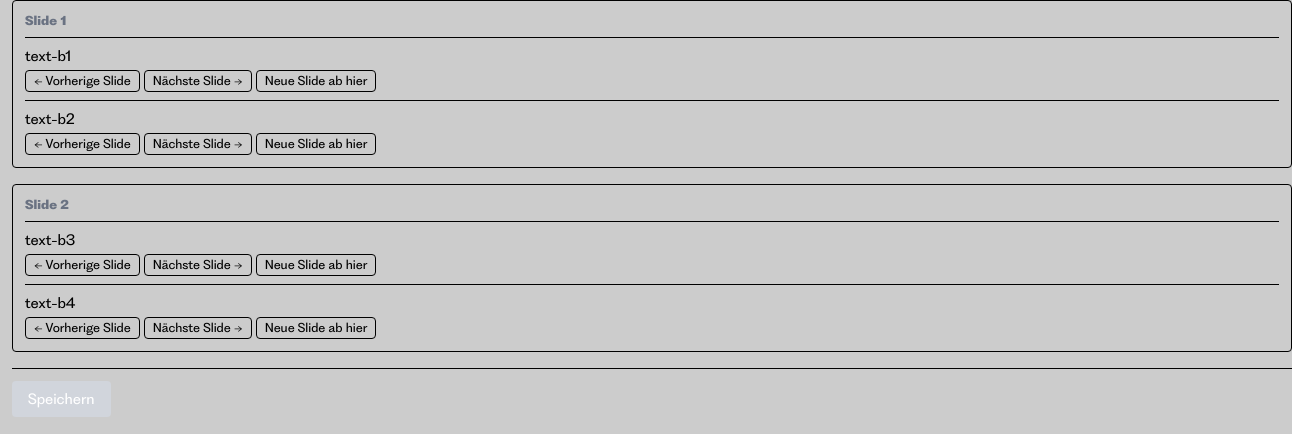
Test: LayoutEditor › C-4: clicking Nächste Slide moves block, save becomes enabled (isDirty=true)
Expected: the text "text-b1" is shown, [25,47,71,65]
# Find b1's "Nächste Slide" button (first block, slide 0).
Click the button "Nächste Slide →" below "text-b1" at (198, 81), box [144,70,252,92]
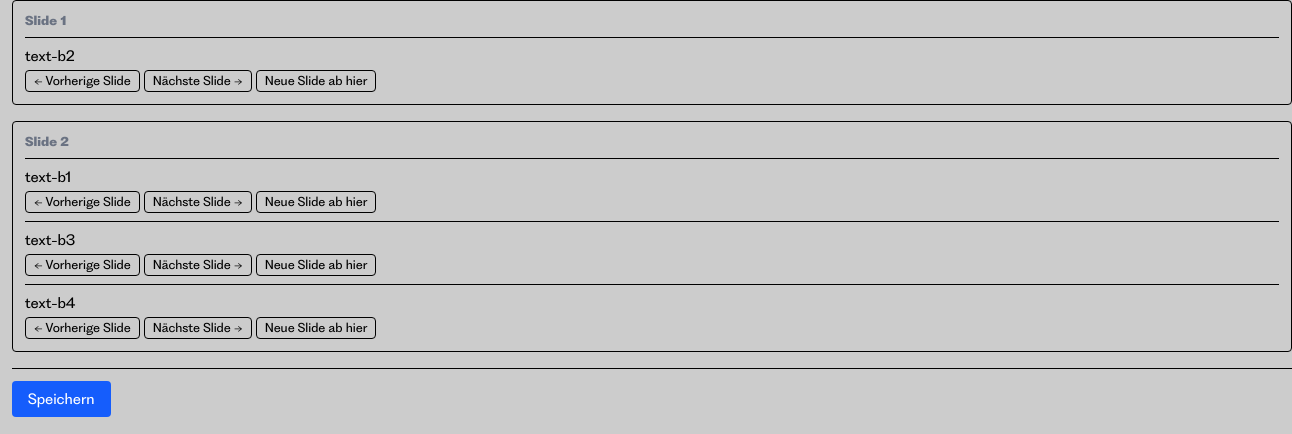
Now the button "Speichern" is enabled, box [12,381,110,417]
